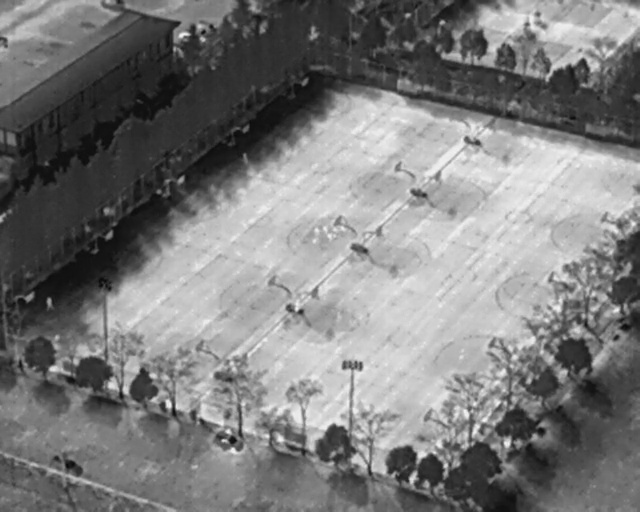Person: (46, 295, 54, 311), (241, 150, 249, 165)
